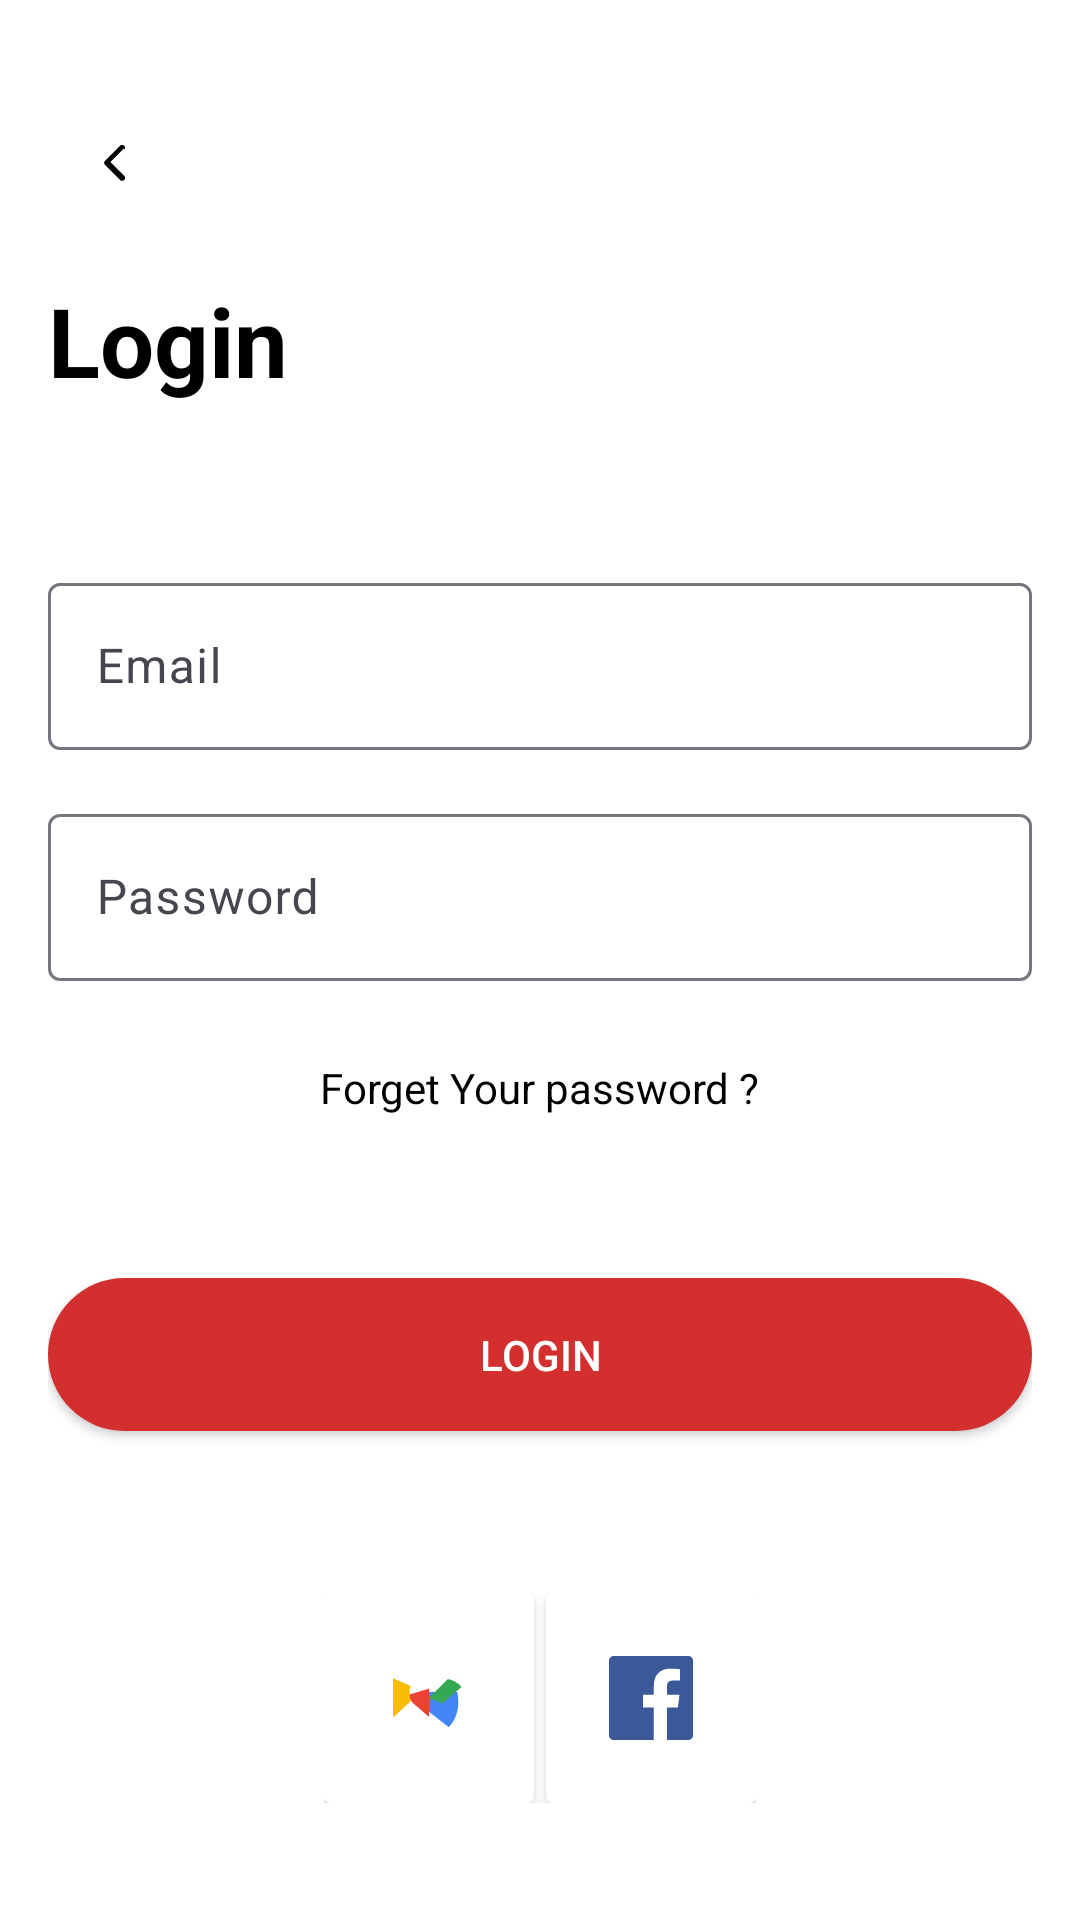

Named icons in this screenshot (1080w x 1920h) and their centers, [x,y]:
back arrow: [114,163]
